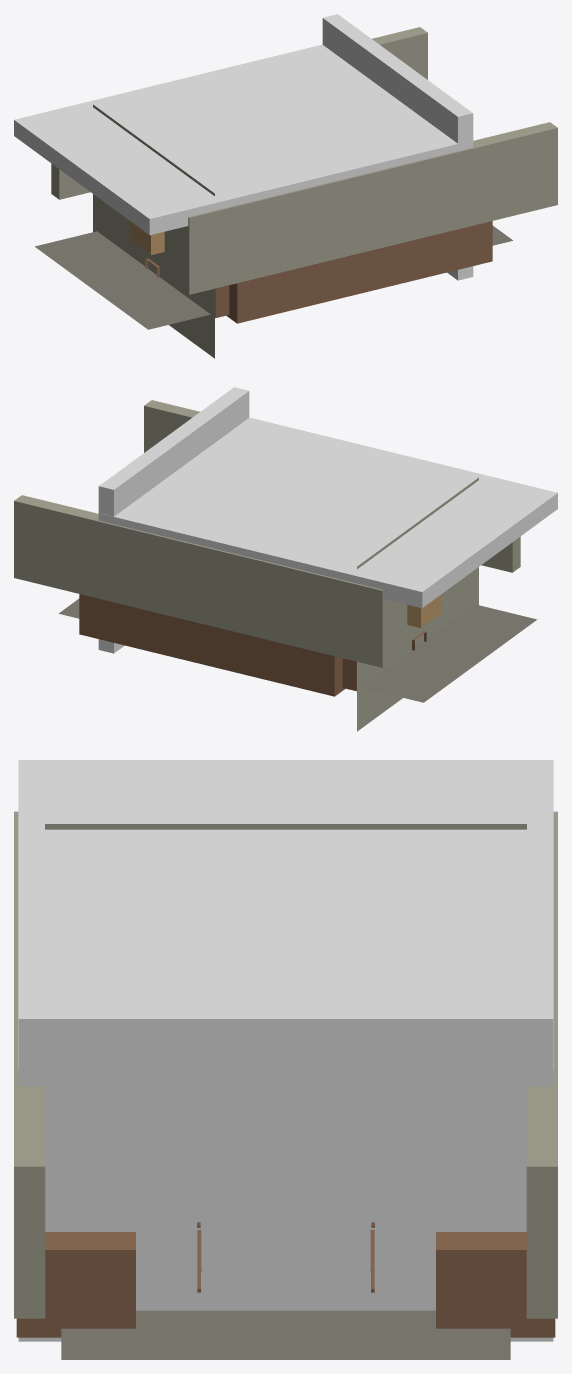
File: floor scale test.fbx
3 renders of one model, top to bottom at view 1: azimuth 30°, elevation 25°; view 2: azimuth 150°, elevation 25°; view 3: azimuth 270°, elevation 25°, orthographic. The views are drawn at different scales.
Parts seen in each view (by area): view 1: Cube.038, Cube.014, Cube.004, Plane, back wall, Plane.002, Cube.009, Cube.022; view 2: Cube.038, Cube.014, Cube.004, Plane, back wall, Plane.002, Cube.009, Cube.022; view 3: back wall, Cube.038, Plane, Cube.004, Cube.014, Plane.002.
Boxes of the visible parts, box(x1,y1,x2,y2) form: Cube.038: box(14, 44, 471, 235); Cube.014: box(51, 27, 557, 294); Cube.004: box(226, 221, 492, 323); Plane: box(34, 225, 512, 329); back wall: box(322, 14, 473, 280); Plane.002: box(93, 104, 214, 358); Cube.009: box(130, 221, 164, 254); Cube.022: box(215, 285, 229, 318); Cube.038: box(100, 417, 557, 608); Cube.014: box(14, 400, 520, 667); Cube.004: box(79, 594, 345, 696); Plane: box(59, 598, 537, 702); back wall: box(98, 387, 249, 653); Plane.002: box(357, 477, 478, 731); Cube.009: box(407, 594, 441, 627); Cube.022: box(342, 658, 356, 691); back wall: box(18, 1004, 553, 1341); Cube.038: box(18, 760, 553, 1084); Plane: box(61, 1310, 510, 1359); Cube.004: box(16, 1232, 555, 1337); Cube.014: box(14, 811, 557, 1318); Plane.002: box(45, 824, 526, 829).
Size of the model in its own units: 43940 by 19501 by 25766.
